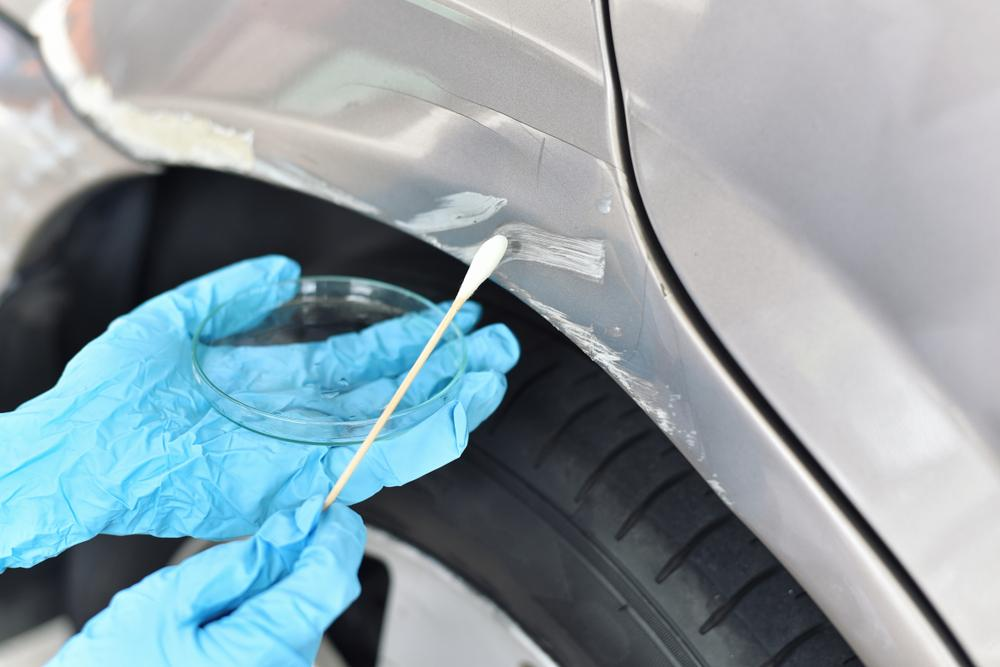scratch: (401, 183, 735, 513)
